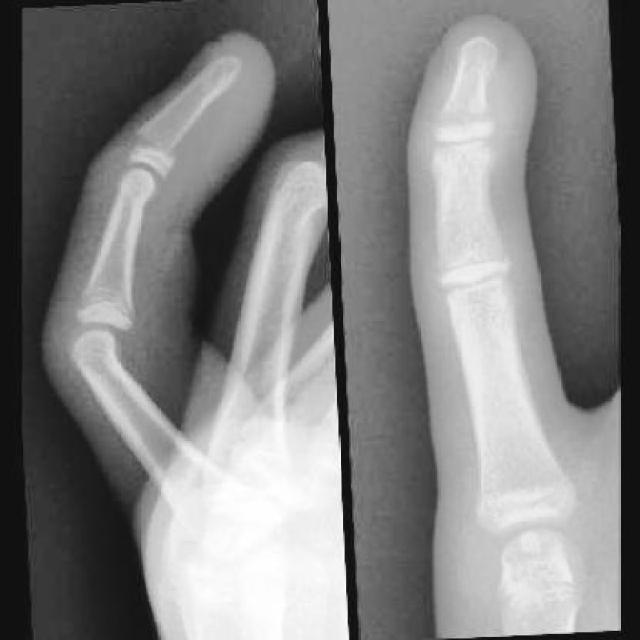Fracture: (128, 125, 176, 164), (430, 102, 493, 131)
